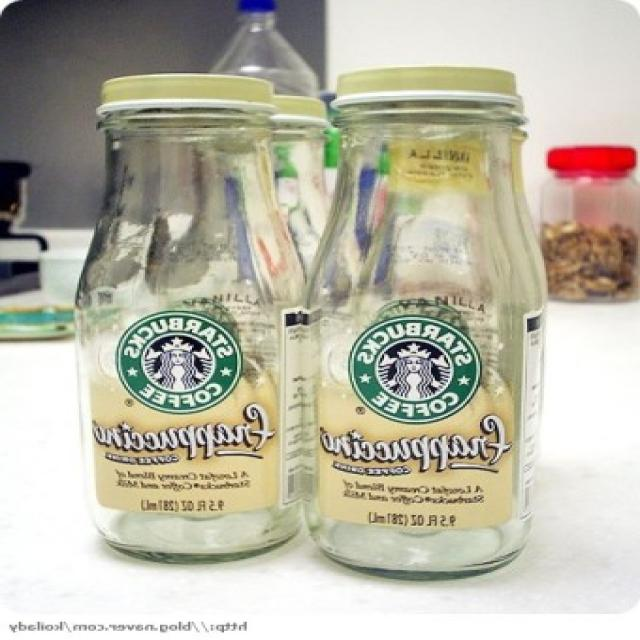glass: (289, 54, 562, 581), (58, 67, 313, 566)
